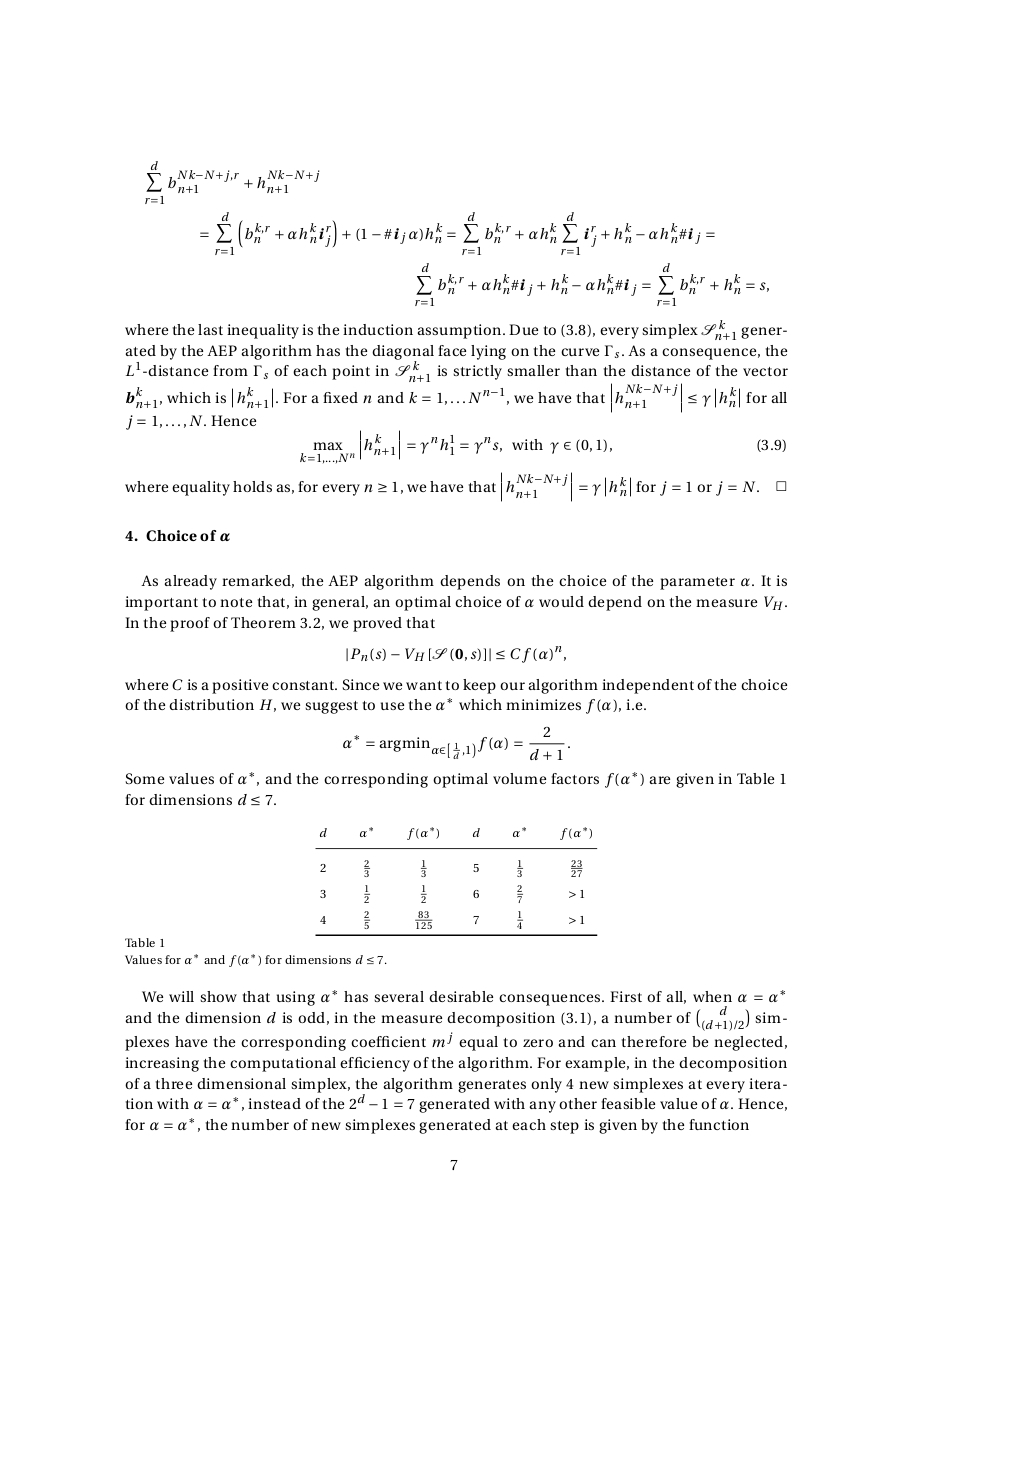Table: (315, 827, 598, 935)
formula: (200, 211, 714, 256), (300, 429, 785, 464), (415, 263, 768, 306), (343, 724, 568, 761), (145, 161, 319, 204), (346, 645, 565, 663)
